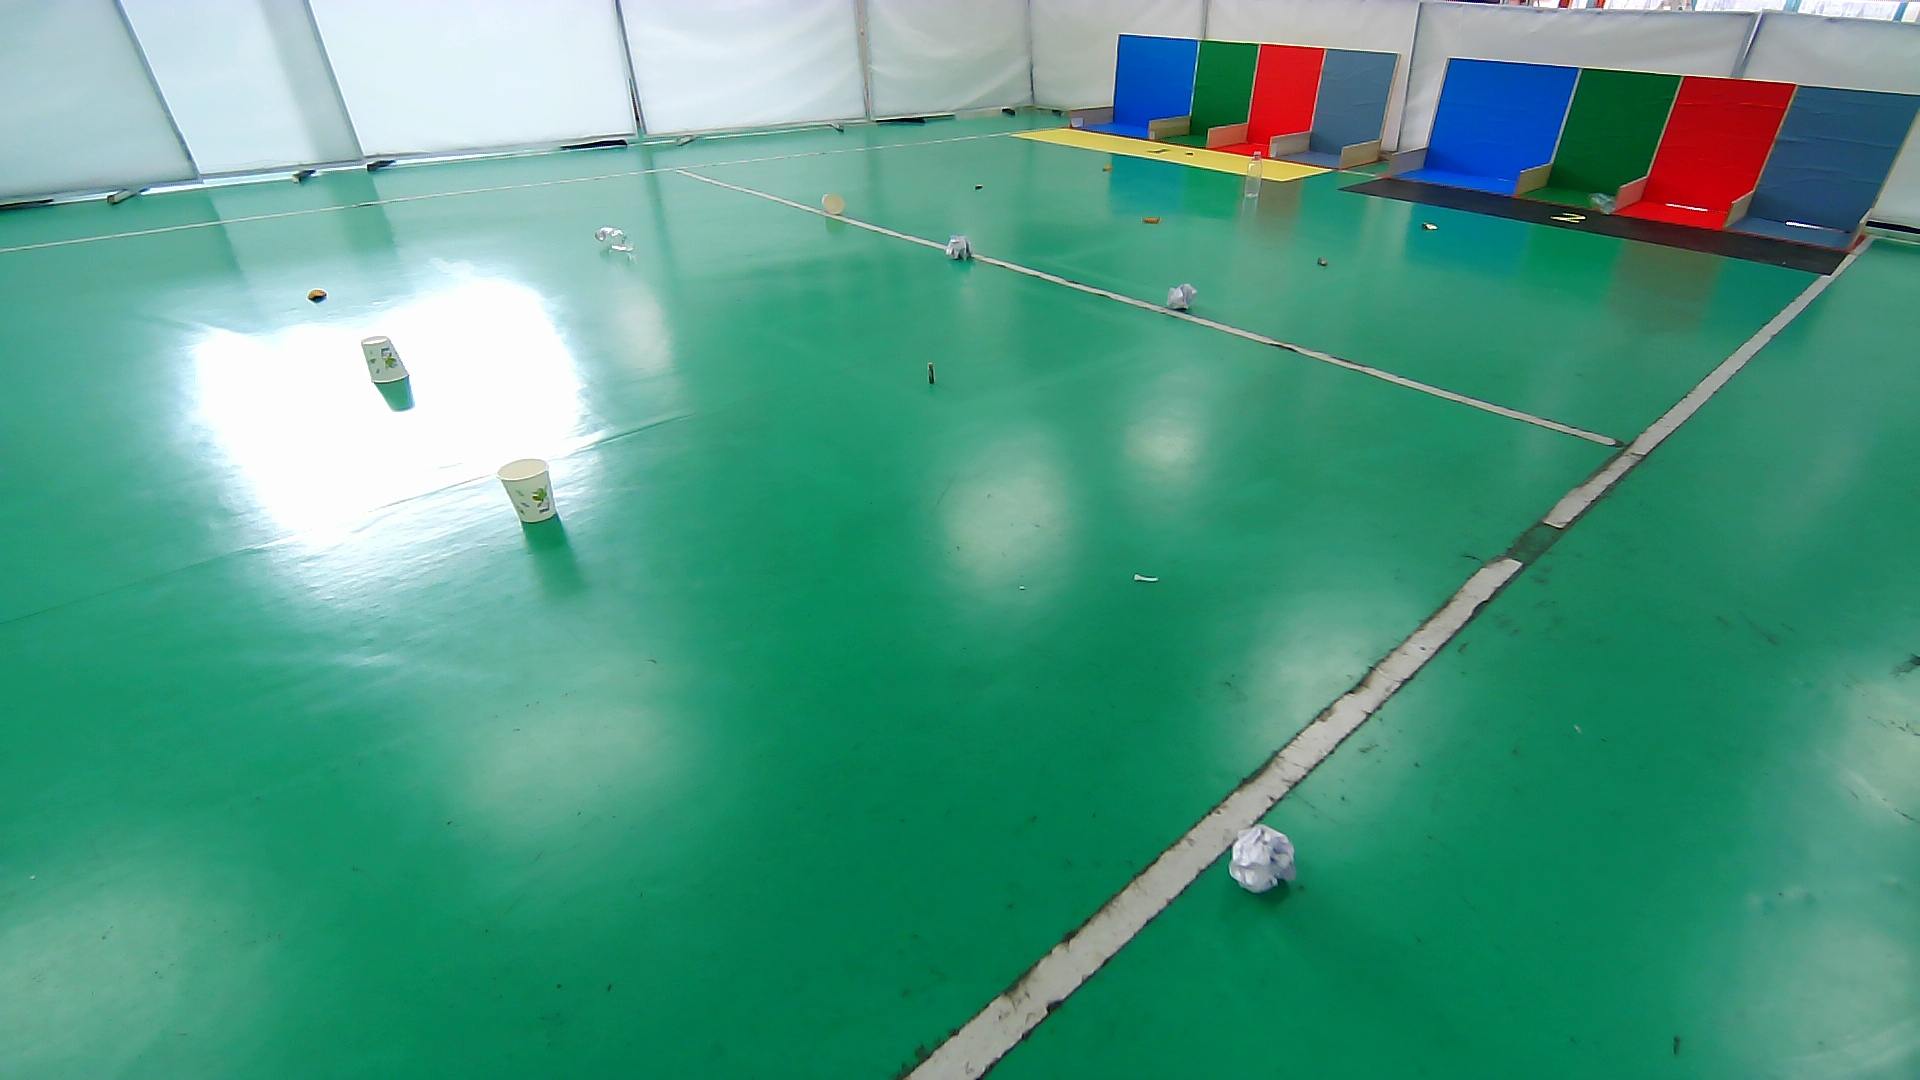battery: (920, 356, 942, 389), (1311, 251, 1335, 273), (968, 178, 989, 195)
bottle: (592, 224, 640, 255), (1241, 148, 1266, 202)
orangepeel: (302, 285, 334, 309), (1414, 214, 1444, 237), (1138, 210, 1164, 229), (1097, 160, 1117, 177)
papercup: (497, 458, 560, 524), (360, 334, 411, 385), (818, 190, 848, 218)
spitball: (1228, 824, 1296, 895), (1164, 282, 1199, 313), (943, 233, 975, 262)
